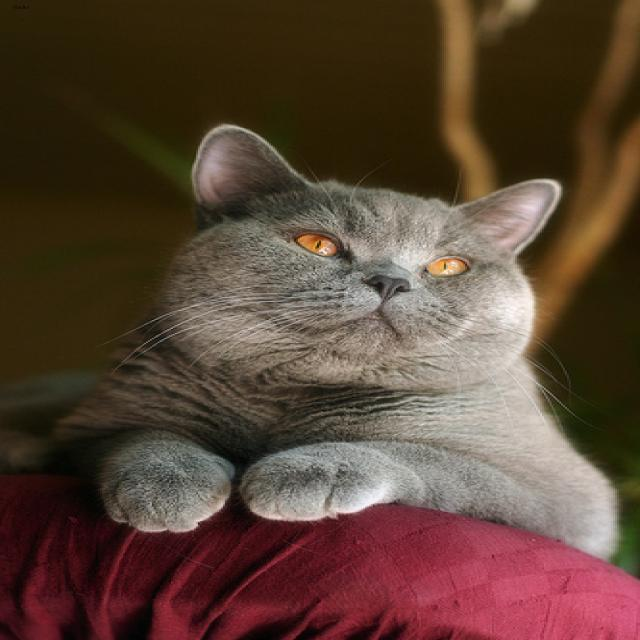British_Shorthair: (171, 123, 559, 358)
